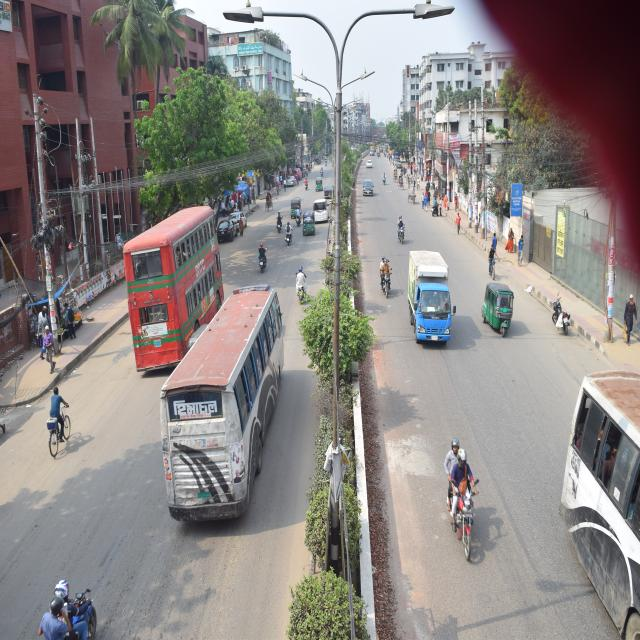bus: (163, 268, 298, 528), (557, 341, 640, 640), (108, 196, 225, 377)
car: (218, 210, 244, 248), (360, 174, 378, 200)
microbus: (308, 195, 334, 235)
motorbike: (425, 439, 486, 569), (543, 282, 580, 341), (374, 250, 394, 309), (392, 219, 412, 247), (278, 224, 300, 248), (256, 248, 270, 277), (380, 169, 391, 189), (273, 218, 284, 236)
pickup-van: (402, 240, 459, 352)
